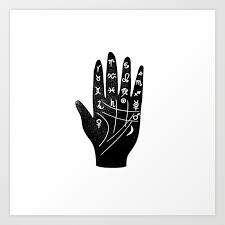palm: (92, 98, 142, 153)
